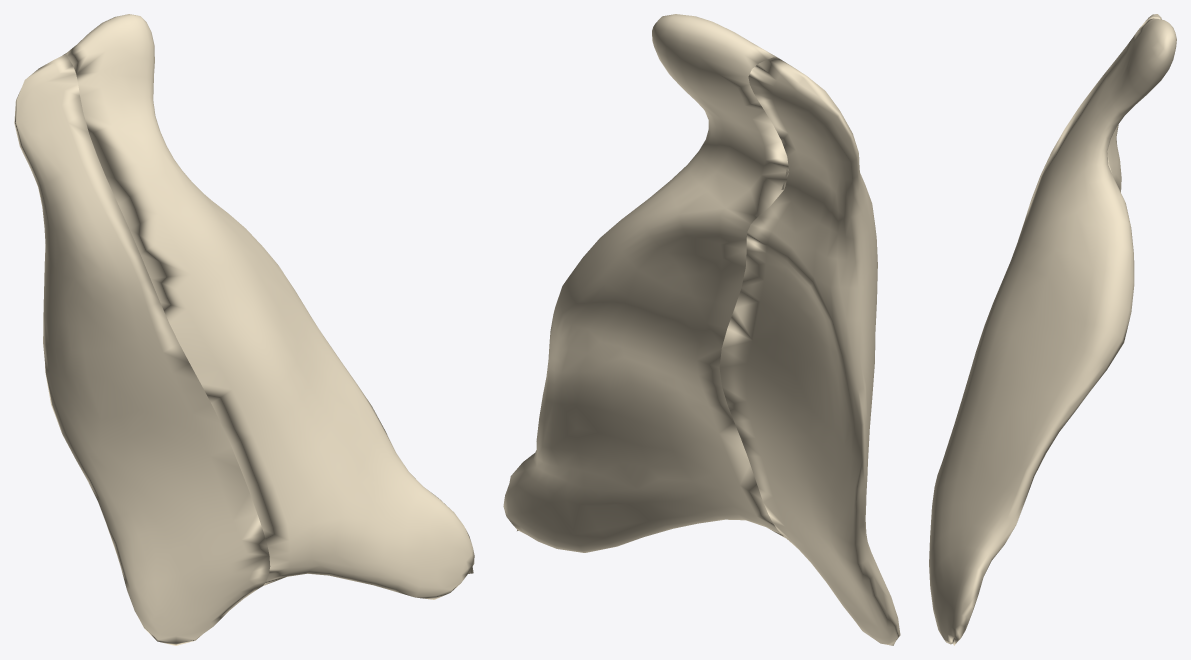
File: vh_f_thymus-80.glb
3 views of the same model, side by side, from view 1: azimuth 30°, elevation 25°; view 2: azimuth 150°, elevation 25°; view 3: azimuth 270°, elevation 25° (orthographic). The views are drawn at different scales.
Visible parts, largest first — view 1: VH_F_thymus_lobe_L, VH_F_thymus_lobe_R; view 2: VH_F_thymus_lobe_L, VH_F_thymus_lobe_R; view 3: VH_F_thymus_lobe_L, VH_F_thymus_lobe_R.
Boxes of the visible parts, x1,y1,x2,y2 form: VH_F_thymus_lobe_L: (66, 14, 474, 599); VH_F_thymus_lobe_R: (14, 53, 270, 645); VH_F_thymus_lobe_L: (503, 14, 788, 552); VH_F_thymus_lobe_R: (719, 57, 900, 645); VH_F_thymus_lobe_L: (929, 18, 1176, 645); VH_F_thymus_lobe_R: (1107, 14, 1161, 192).
Bounding box in the file's own units: 0.086 × 0.1236 × 0.0538.
